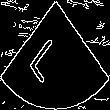L_NE: (34, 26, 76, 84)
